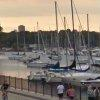Boat: (10, 47, 88, 70)
